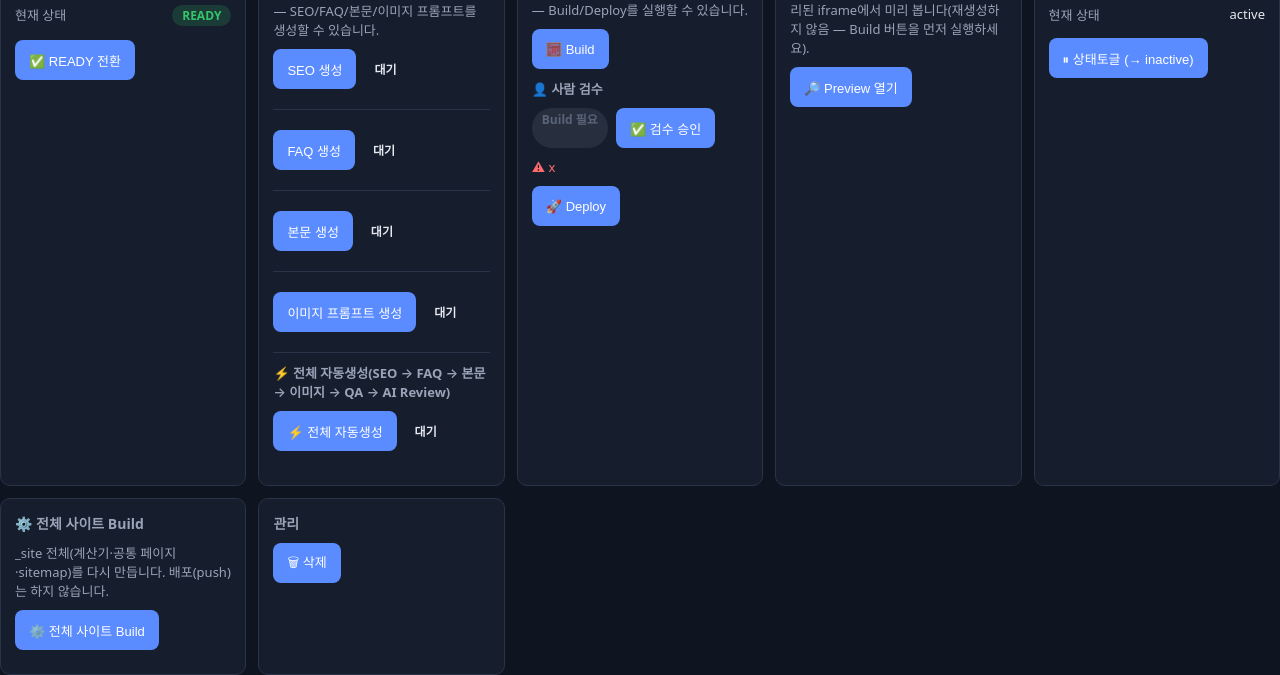
Scenario: GAP-03 전체 사이트 Build › runs the rebuild and shows the result summary + manual deploy steps (no deploy button)
The width and height of the screenshot is (1280, 675).
(page scrolled)
Click the button "⚙️ 전체 사이트 Build" at [87, 630], box [15, 610, 159, 650]
(page scrolled)
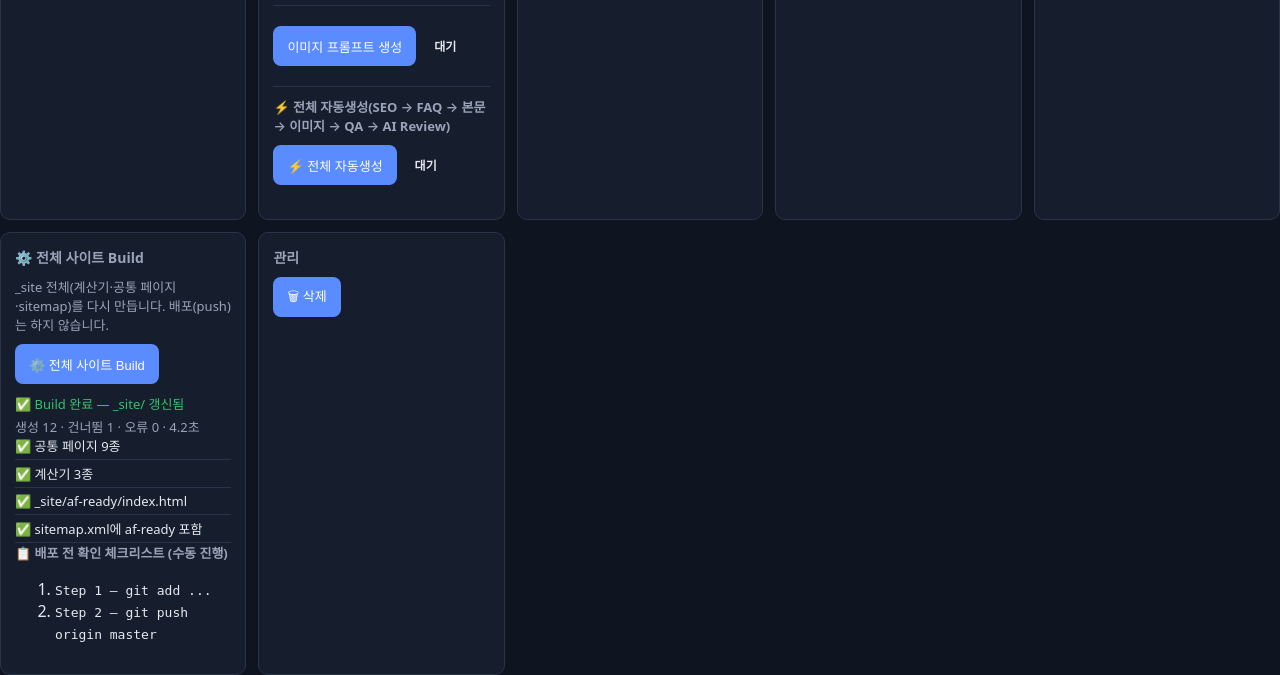
Now the text "✅ Build 완료 — _site/ 갱신됨" is shown, box [15, 395, 184, 413]
Now the text "생성 12 · 건너뜀 1 · 오류 0 · 4.2초" is shown, box [15, 417, 231, 436]
Now the list item "✅ 계산기 3종" is shown, box [15, 464, 231, 488]
